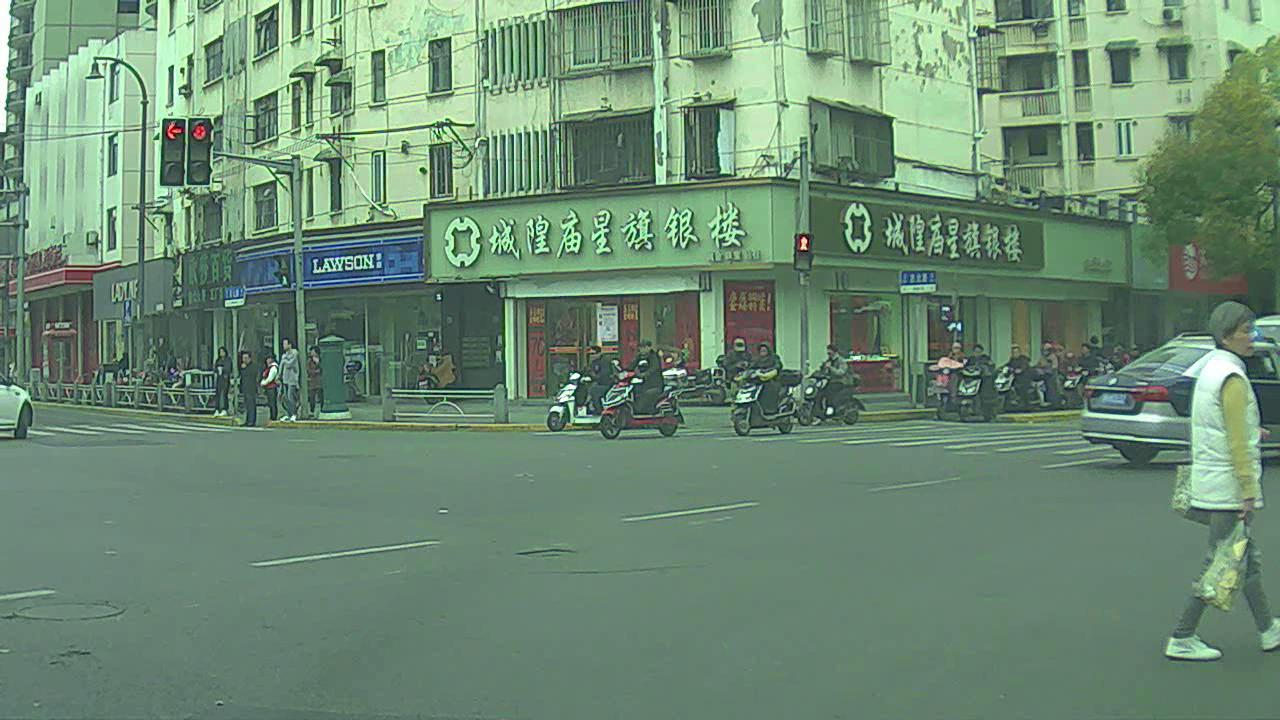traffic_light: (184, 117, 216, 185), (162, 116, 187, 187)
